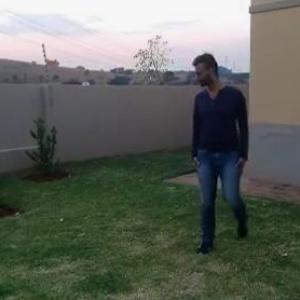follow: (175, 42, 251, 270)
